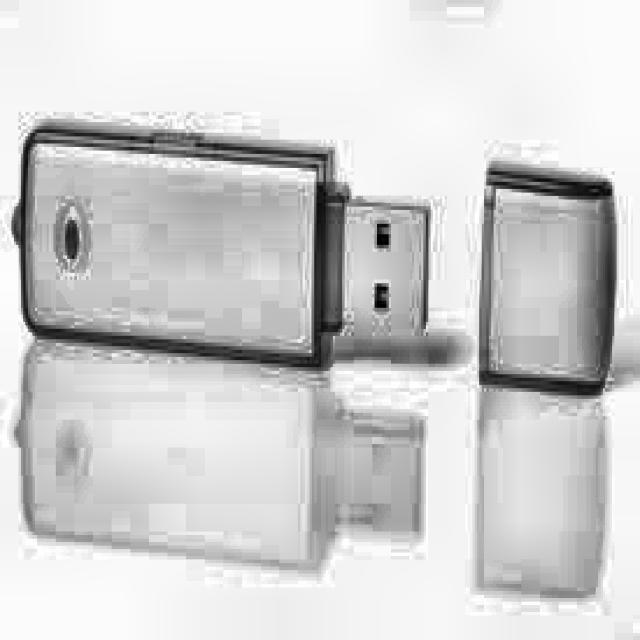Mug: (18, 125, 622, 392)
